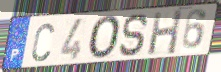4: (59, 17, 84, 63)
6: (181, 7, 209, 55)
C: (30, 21, 56, 63)
H: (146, 8, 184, 57)
O: (87, 15, 123, 61)
S: (118, 12, 151, 57)
